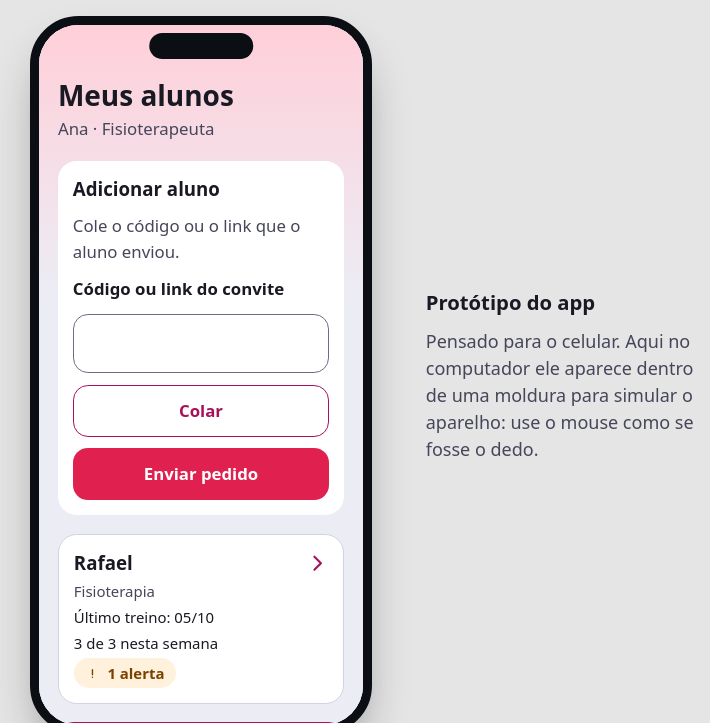
Scenario: extrair o código do que a pessoa cola ou digita › o campo nunca guarda mais de 6 caracteres, mesmo digitando além
Type "abcdefghij" into the field labelled "Código ou link do convite". click: [201, 344]
box: [73, 314, 329, 374]
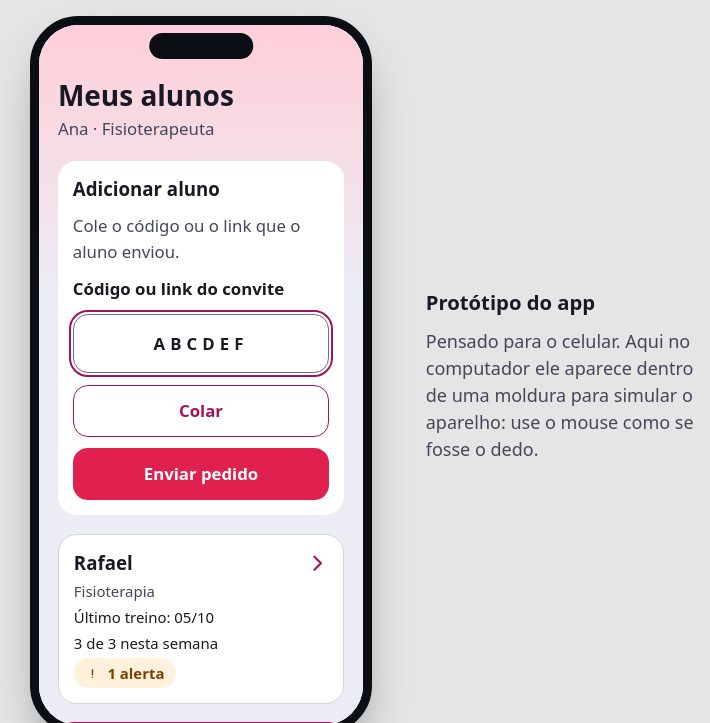
Expected: the field labelled "Código ou link do convite" holds "ABCDEF", [73, 314, 329, 374]
